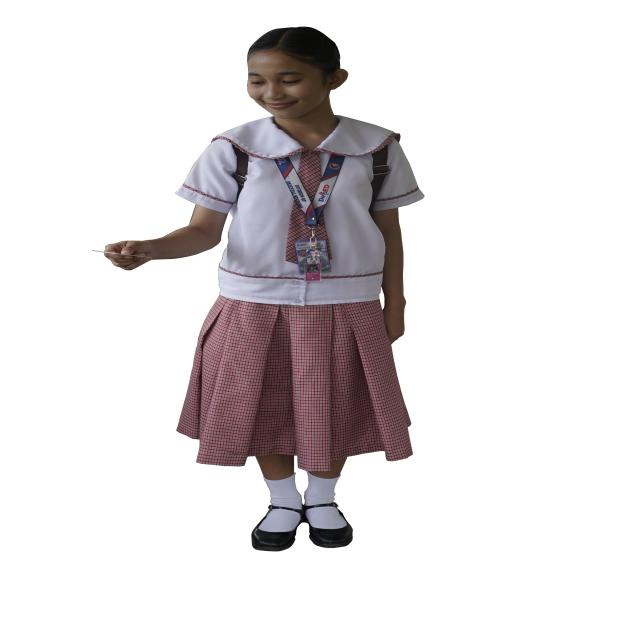id lace: (275, 154, 344, 230)
pologirl: (176, 117, 423, 305), (285, 202, 307, 265), (296, 151, 321, 202), (312, 220, 326, 234)
skirt: (177, 295, 412, 471)
